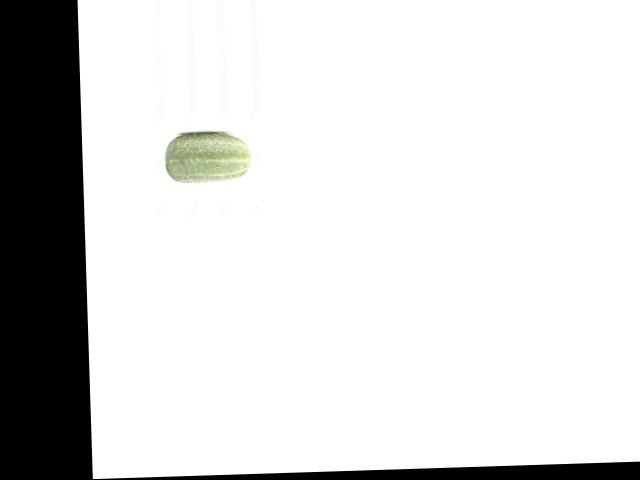cucumber: (163, 131, 250, 183)
